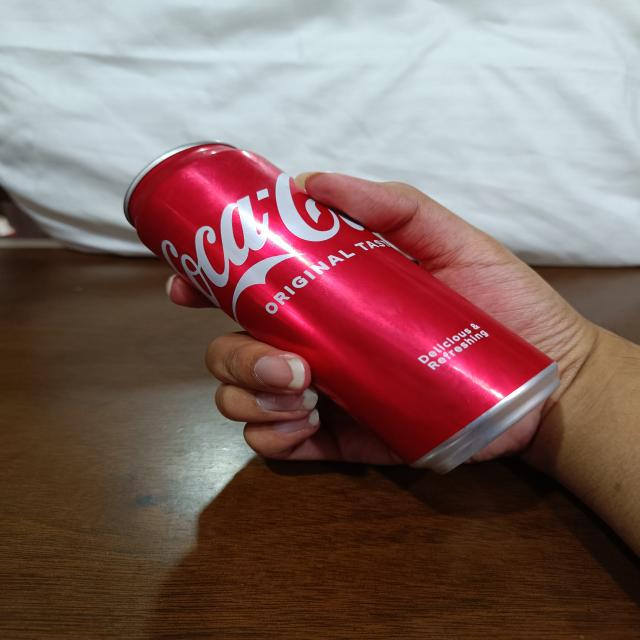coke: (119, 135, 542, 459)
